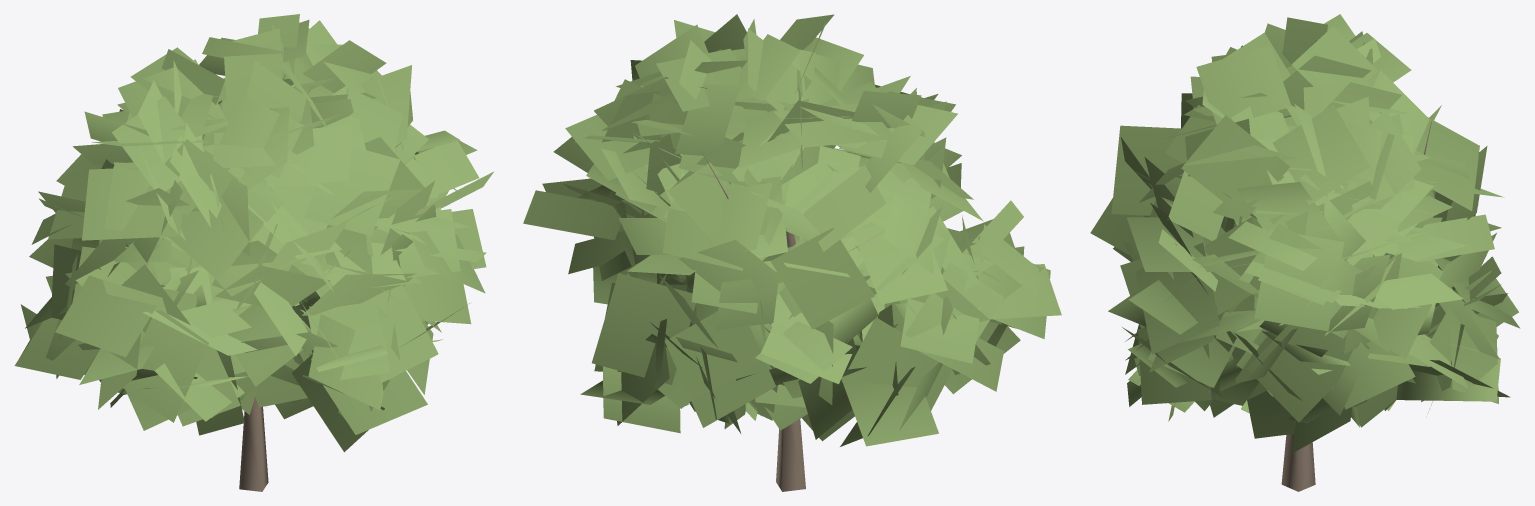
File: Broadleaf_3_lod2.glb
3 views of the same model, side by side, from view 1: azimuth 30°, elevation 25°; view 2: azimuth 150°, elevation 25°; view 3: azimuth 270°, elevation 25° (orthographic). The views are drawn at different scales.
Parts seen in each view (by area): view 1: Broadleaf_3_lod2; view 2: Broadleaf_3_lod2; view 3: Broadleaf_3_lod2.
Boxes of the visible parts, x1=… form: Broadleaf_3_lod2: x1=14, y1=14, x2=493, y2=491; Broadleaf_3_lod2: x1=523, y1=14, x2=1061, y2=491; Broadleaf_3_lod2: x1=1090, y1=14, x2=1520, y2=491.
Size of the model in its own units: 12.79 by 12.49 by 10.92.
